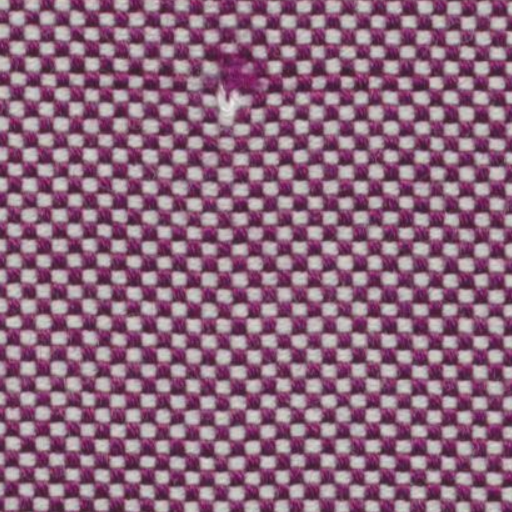MianQiu: (202, 31, 280, 136)
